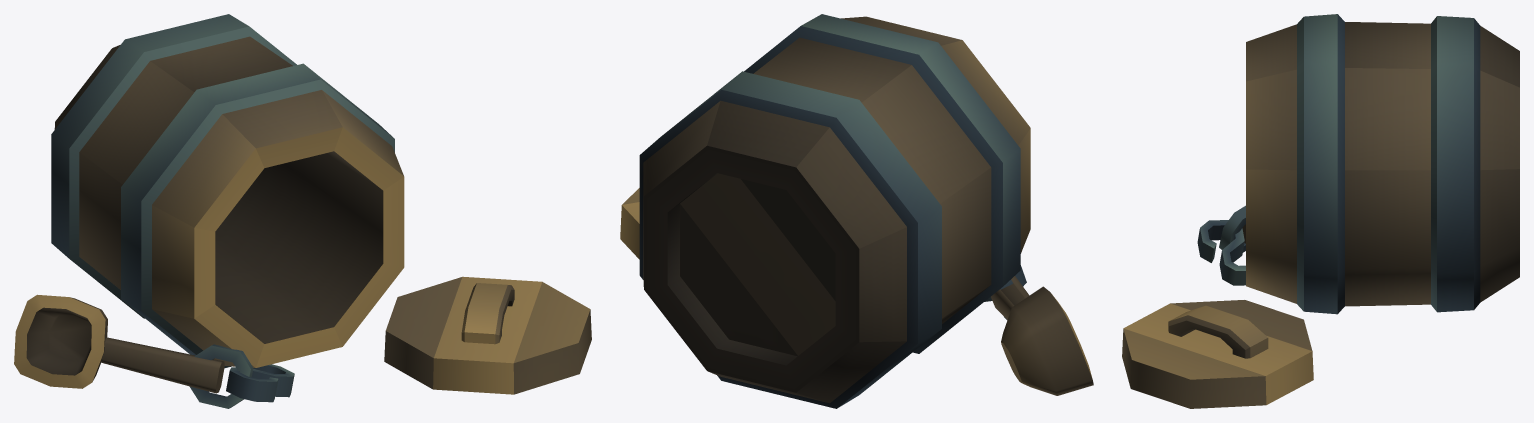
File: barrel_lying_empty.fbx
3 views of the same model, side by side, from view 1: azimuth 30°, elevation 25°; view 2: azimuth 150°, elevation 25°; view 3: azimuth 270°, elevation 25° (orthographic). The views are drawn at different scales.
Parts seen in each view (by area): view 1: barrel_lying_empty; view 2: barrel_lying_empty; view 3: barrel_lying_empty.
Boxes of the visible parts, x1,y1,x2,y2 form: barrel_lying_empty: (14,14,591,408); barrel_lying_empty: (620,14,1093,408); barrel_lying_empty: (1122,14,1519,408).
Bounding box in the file's own units: 175 × 94.34 × 133.
